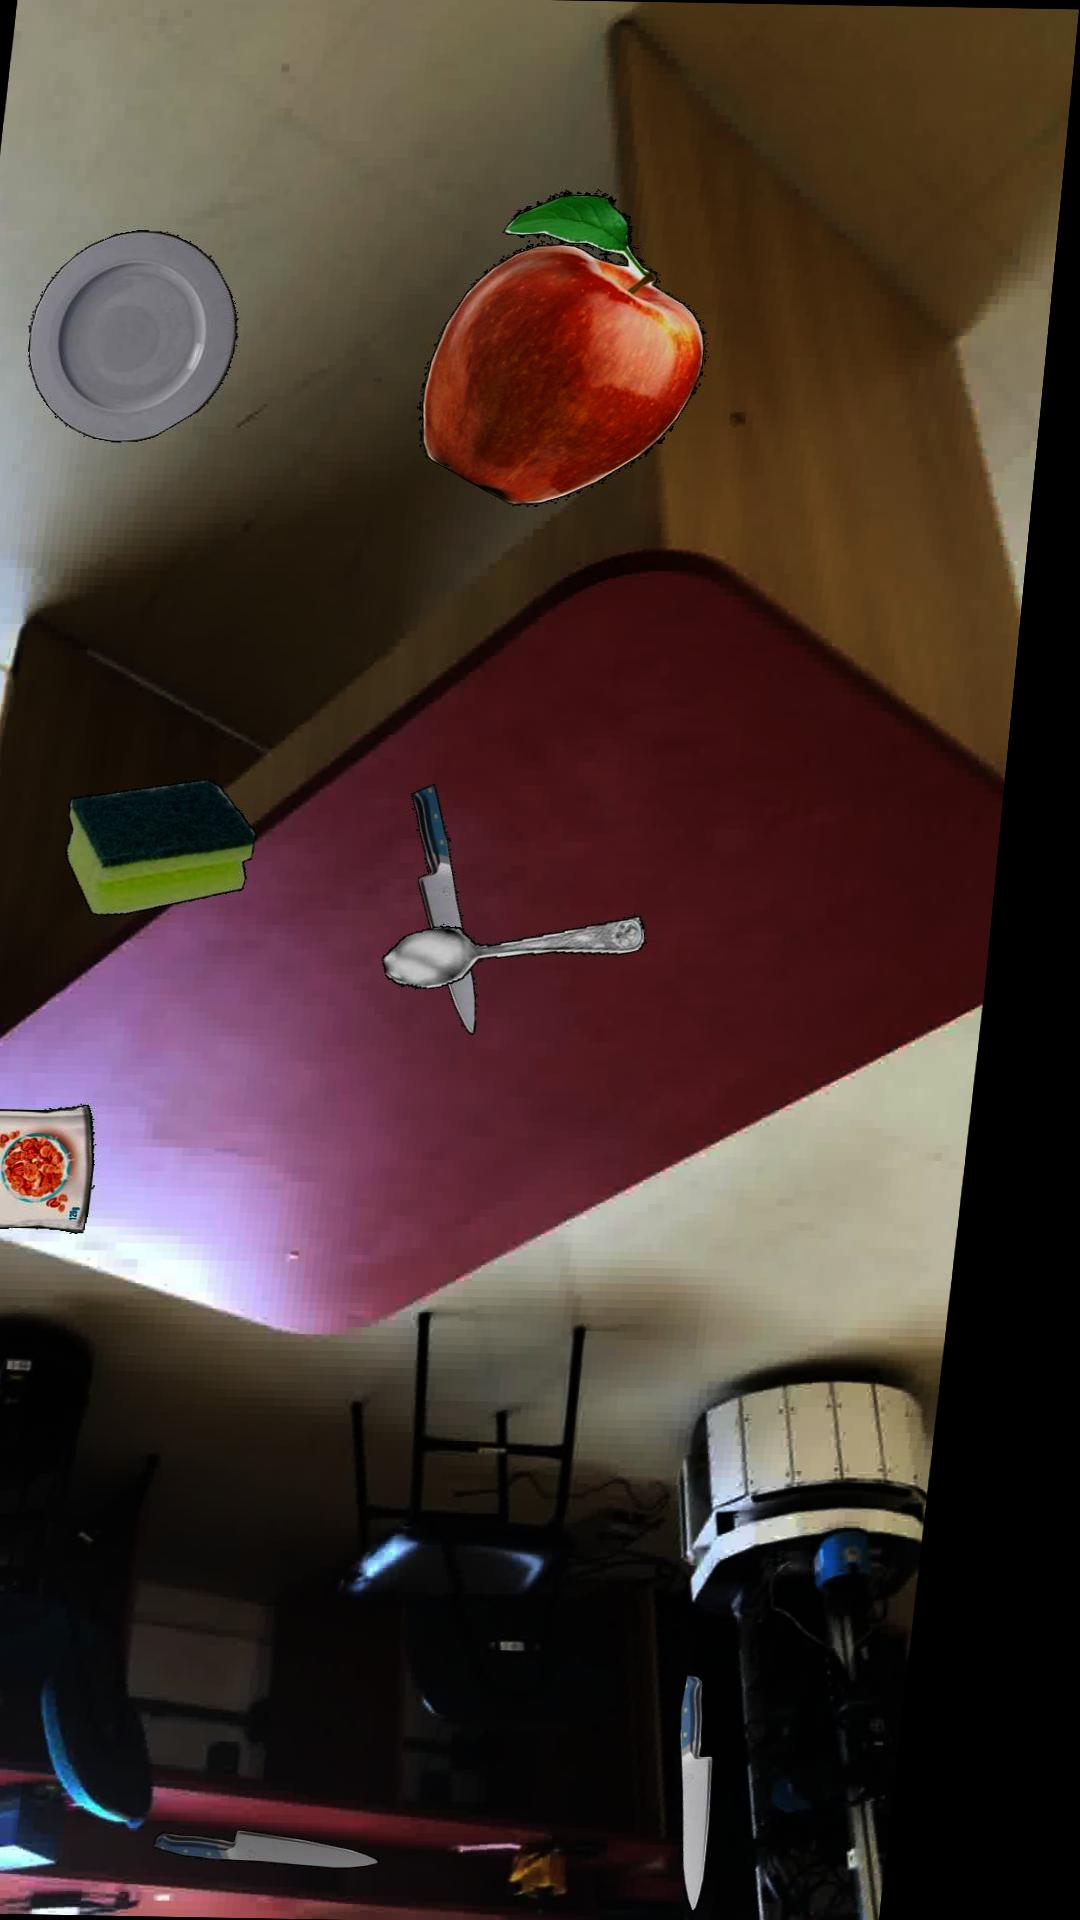apple: (425, 193, 709, 508)
corn flakes: (0, 1106, 116, 1236)
knife: (189, 1830, 415, 1870), (712, 1677, 748, 1912), (426, 786, 479, 930), (465, 947, 495, 1036)
plate: (33, 232, 243, 443)
sponge: (80, 781, 272, 918)
spoon: (400, 918, 662, 990)
